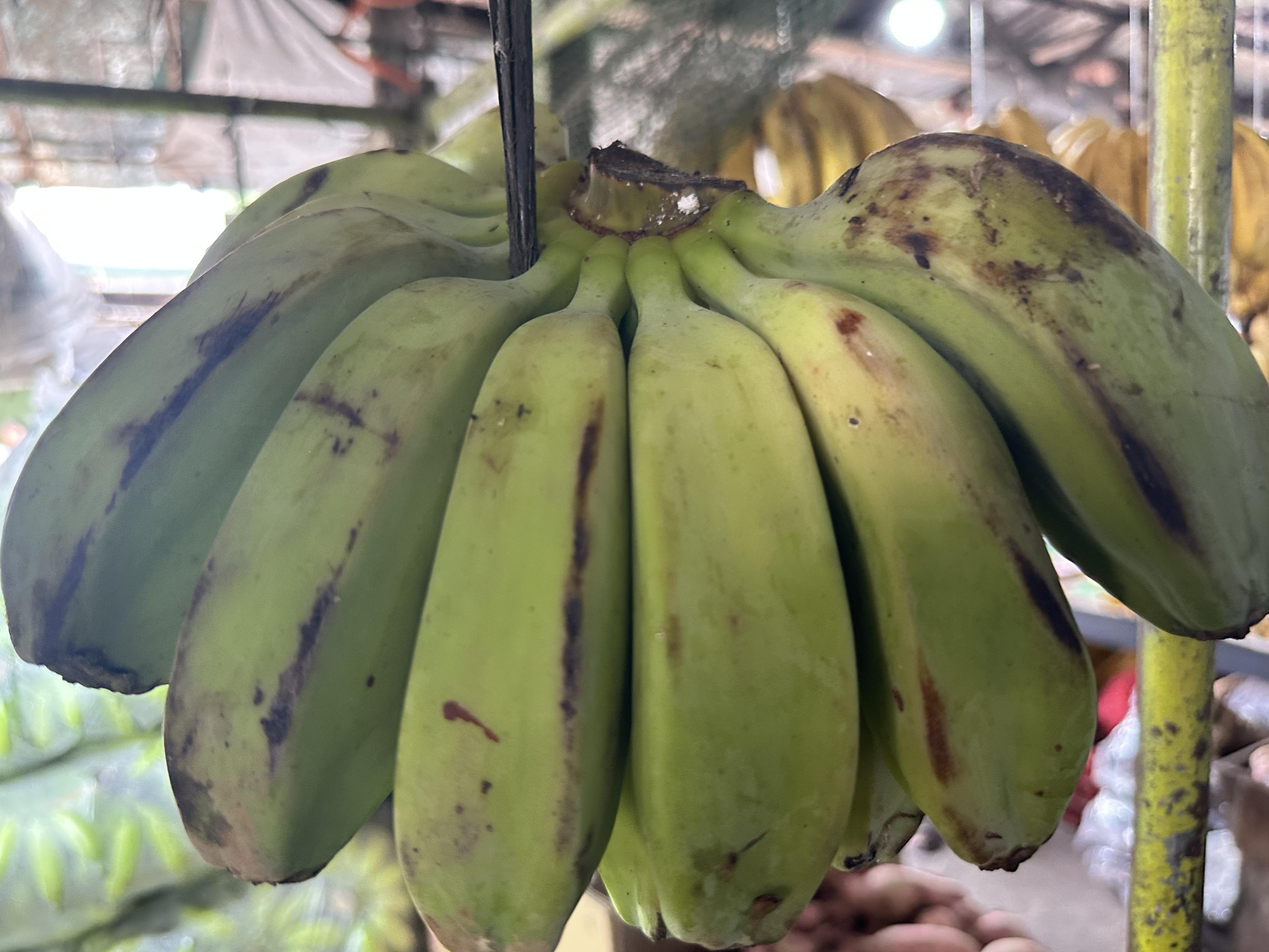underripe: (0, 104, 1269, 952)
